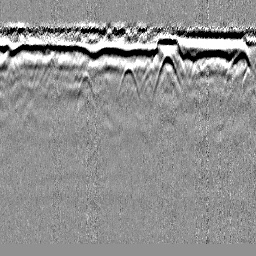cavity: (116, 61, 140, 99)
